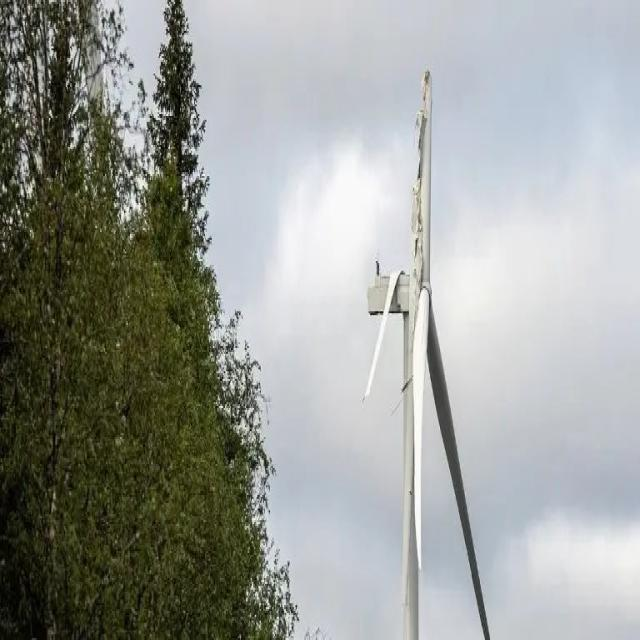damaged-blade: (409, 70, 431, 326), (419, 70, 431, 283)
solid-blade: (428, 302, 490, 637), (412, 281, 431, 567)
